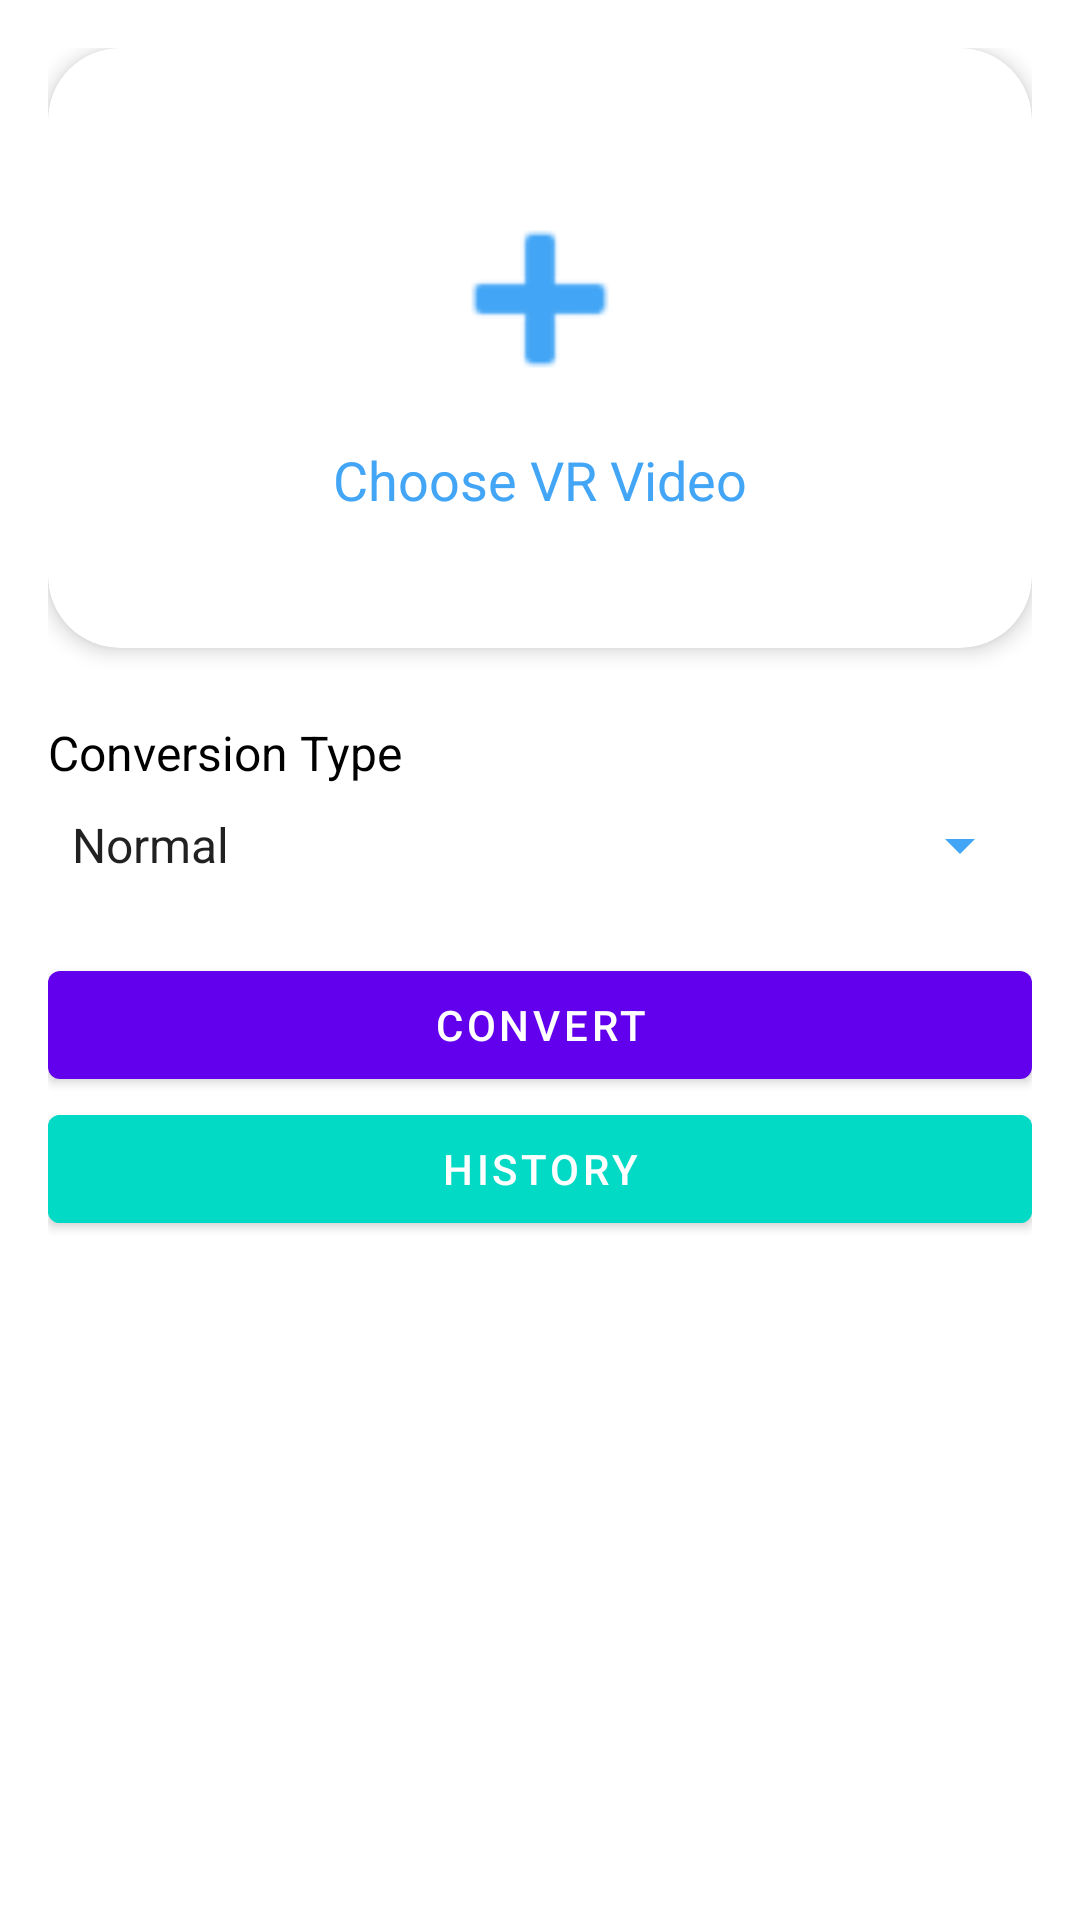

Icon click points for this 1080x1920 phone screenshot, format (x=x, y=y):
add: (x=540, y=299)
